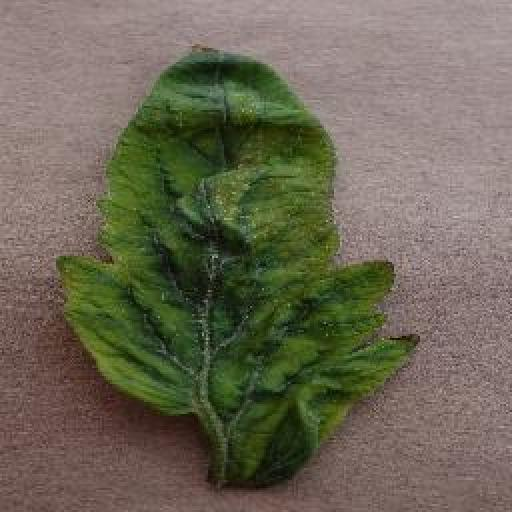Yellow Leaf Curl Virus: (53, 41, 419, 487)
